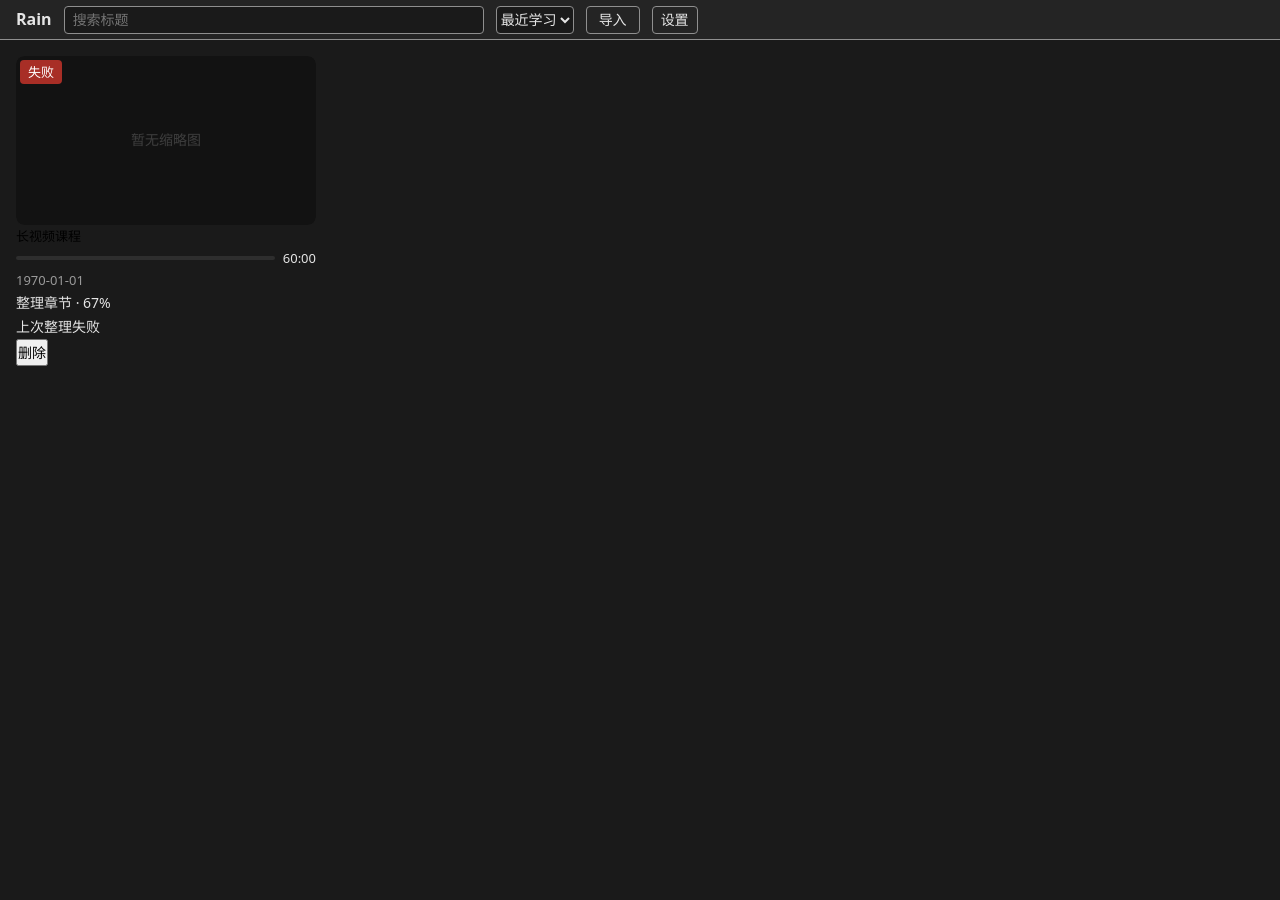
it: AC-LV-19 and AC-LV-20 import task details › shows the full live progress payload for an active task
What coordinates should you click on to do the following:
click the text "长视频课程"
I would click on:
 (48, 236)
Its box is 16,227 -> 81,245.
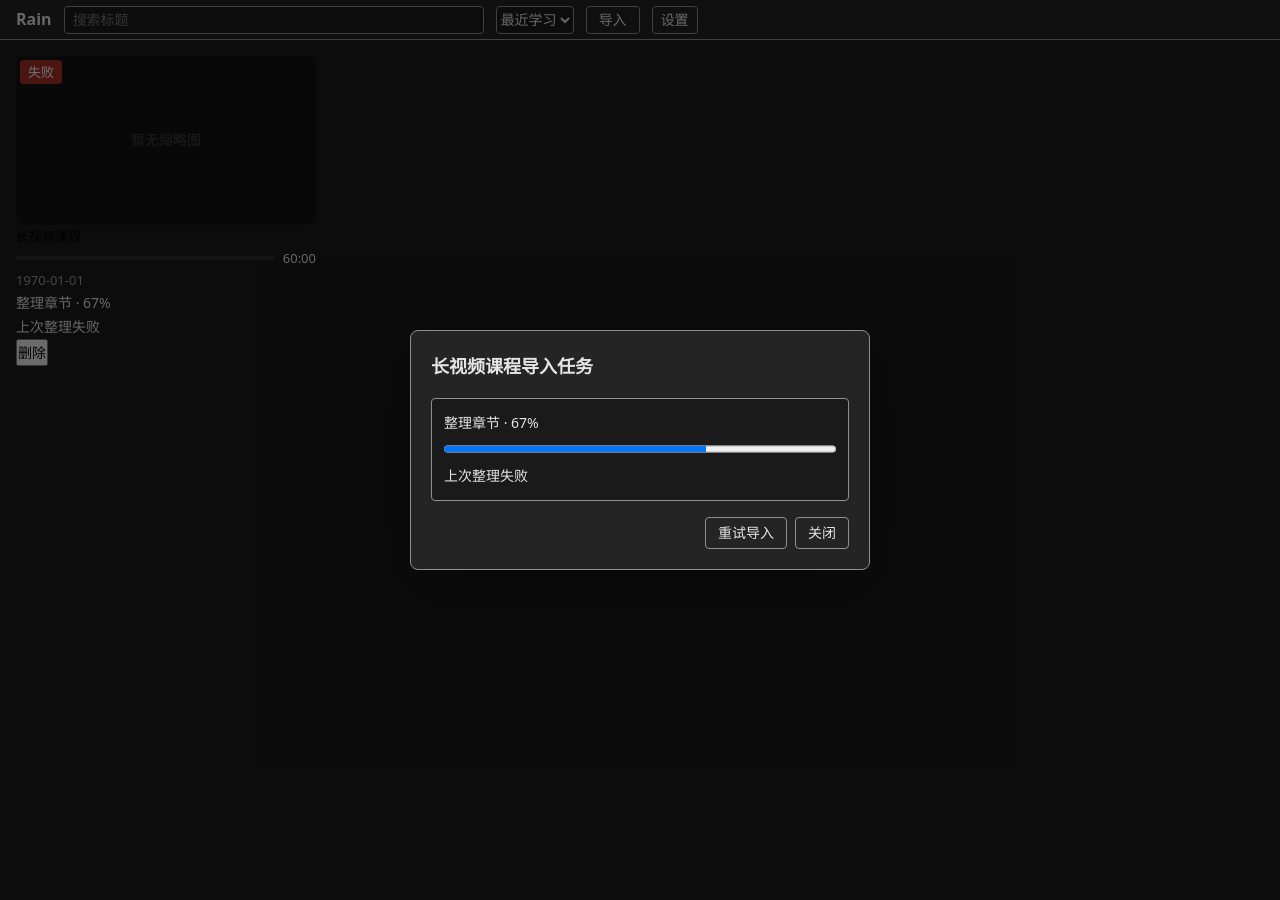
What coordinates should you click on to do the following:
click the button "重试导入"
I would click on:
 (746, 533)
Its box is 705,517 -> 787,549.
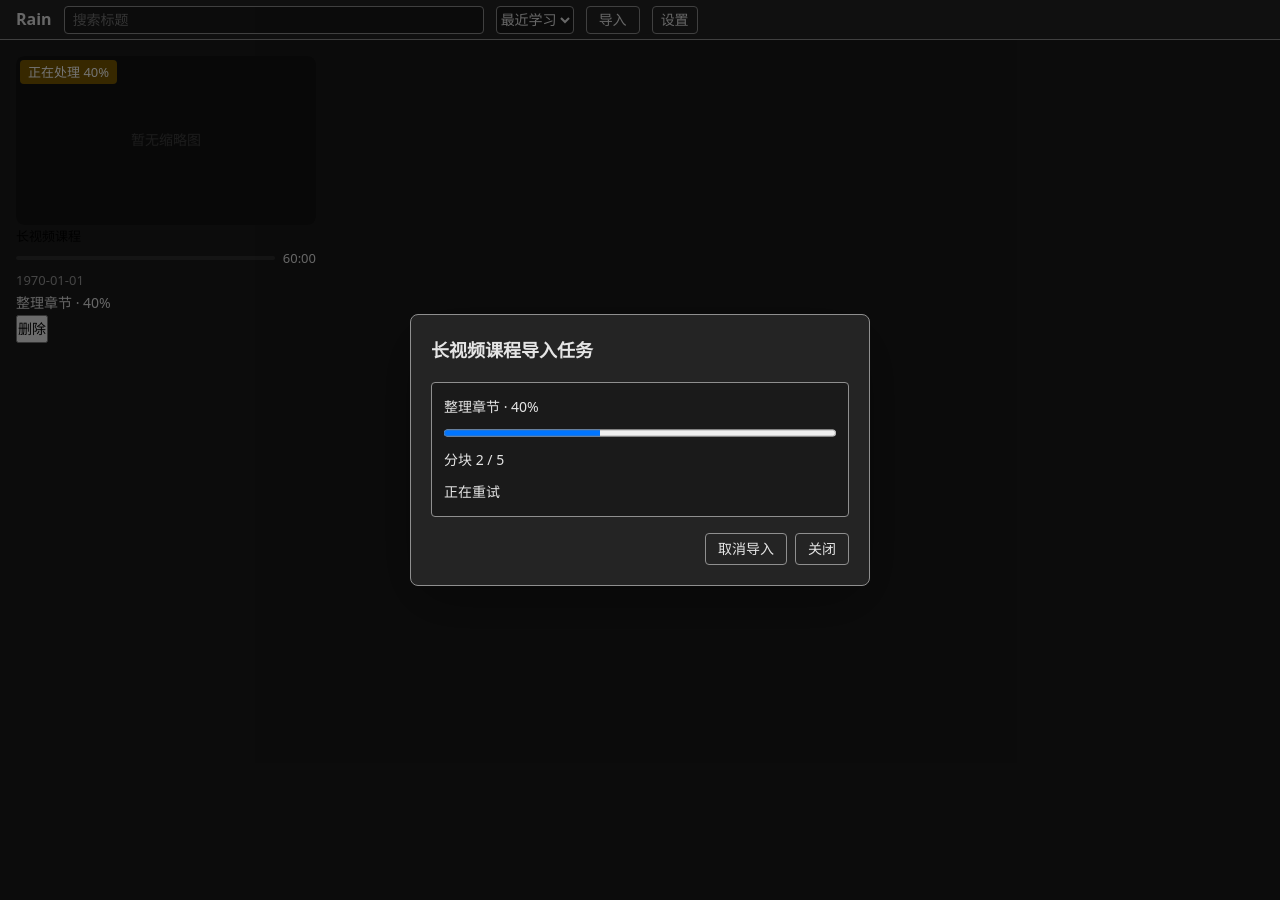
expect the dialog "长视频课程导入任务" shows "整理章节 · 40%": met, box 410,314 -> 870,586
expect the dialog "长视频课程导入任务" shows "分块 2 / 5": met, box 410,314 -> 870,586
expect the dialog "长视频课程导入任务" shows "正在重试": met, box 444,482 -> 500,501
